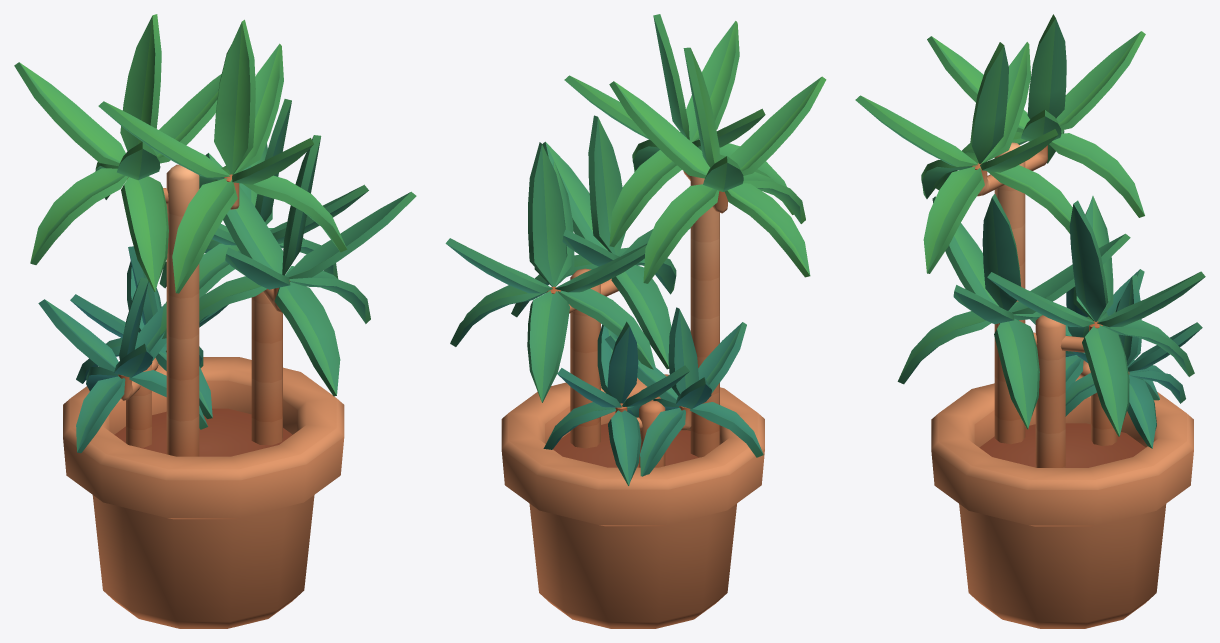
Rendered from yucca_plant_medium_potted.fbx.
3 renders of one model, left to right at view 1: azimuth 30°, elevation 25°; view 2: azimuth 150°, elevation 25°; view 3: azimuth 270°, elevation 25°, orthographic. The views are drawn at different scales.
Parts seen in each view (by area): view 1: yucca_plant_medium_potted; view 2: yucca_plant_medium_potted; view 3: yucca_plant_medium_potted.
Part boxes in pixels (x1,y1,x2,y2): yucca_plant_medium_potted: [14, 14, 416, 628]; yucca_plant_medium_potted: [445, 14, 826, 628]; yucca_plant_medium_potted: [855, 14, 1205, 628].
Bounding box in the file's own units: 142 × 233 × 133.
1 material, 1 textured.
